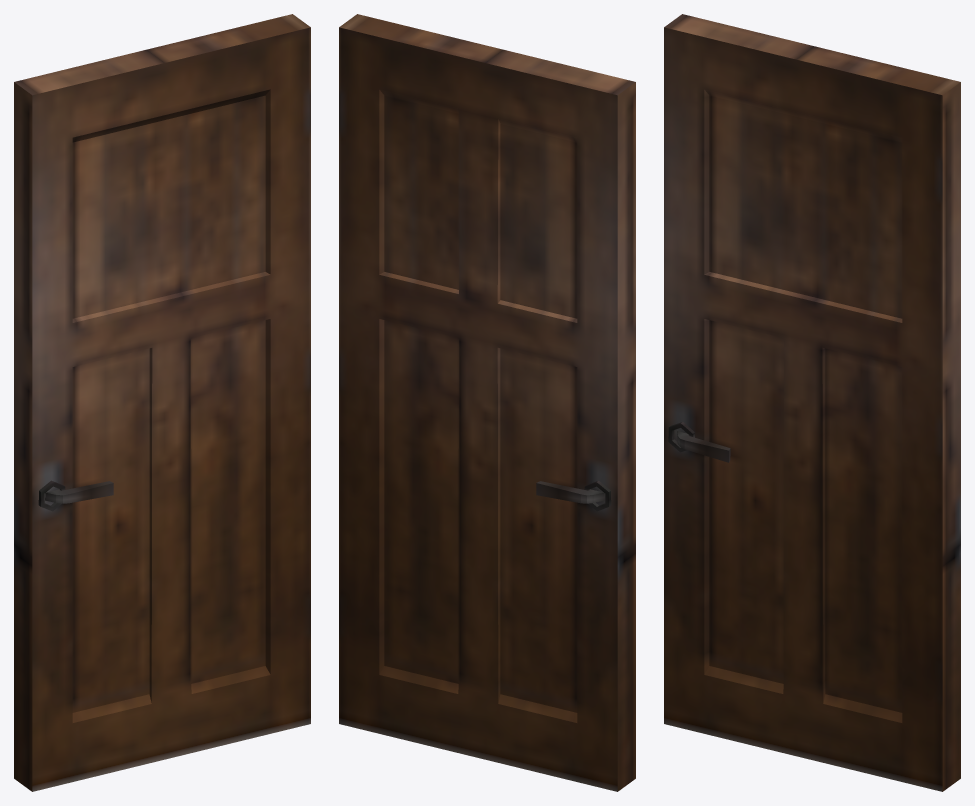
The model's file is worn_door.glb.
The picture shows the model from 3 angles, left to right: view 1: azimuth 30°, elevation 25°; view 2: azimuth 150°, elevation 25°; view 3: azimuth 330°, elevation 25°; orthographic projection.
Parts seen in each view (by area): view 1: Worn Door_004.001, Door Handle.022; view 2: Worn Door_004.001, Door Handle.022; view 3: Worn Door_004.001, Door Handle.022.
Boxes of the visible parts, left/top/right/bottom form: Worn Door_004.001: left=14, top=14, right=310, bottom=791; Door Handle.022: left=38, top=480, right=113, bottom=511; Worn Door_004.001: left=339, top=14, right=635, bottom=791; Door Handle.022: left=536, top=480, right=611, bottom=511; Worn Door_004.001: left=664, top=14, right=960, bottom=791; Door Handle.022: left=668, top=422, right=730, bottom=462.
Bounding box in the file's own units: 0.7558 × 1.81 × 0.1629.
1 material, 1 textured.
